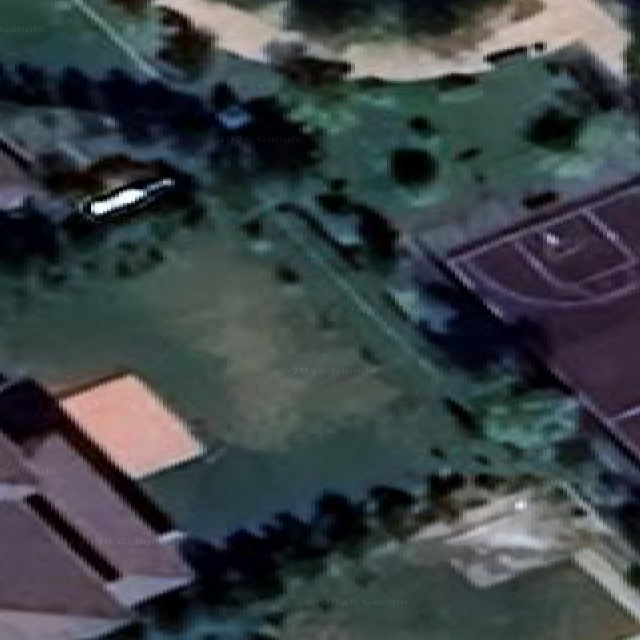car: (77, 176, 176, 219)
